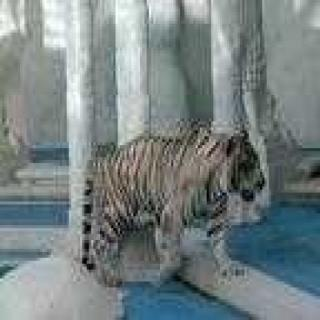Tiger: (59, 109, 288, 302)
